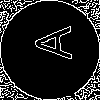A: (25, 25, 72, 60)
